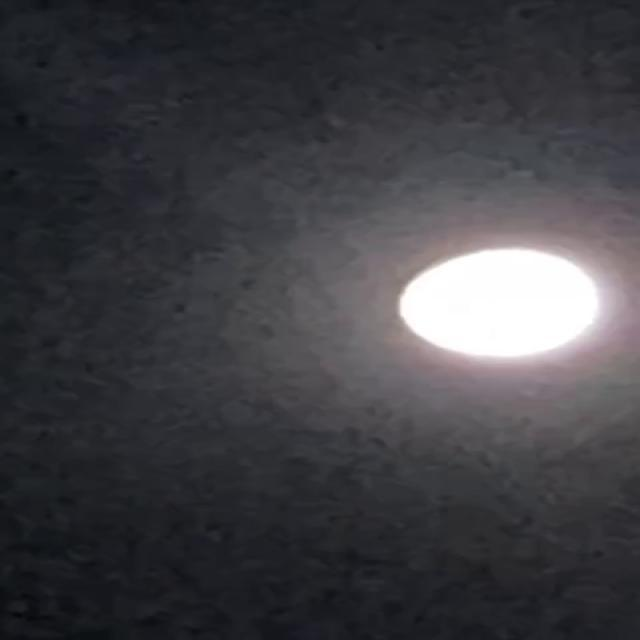moon: (351, 236, 631, 377)
